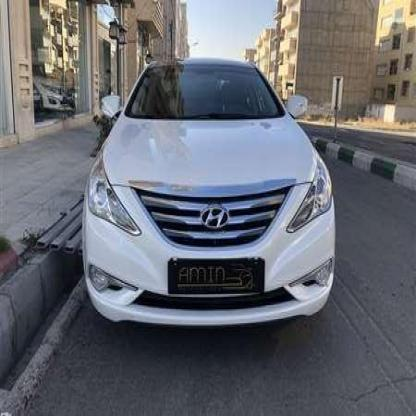Car: (80, 60, 338, 323), (22, 58, 73, 109)
